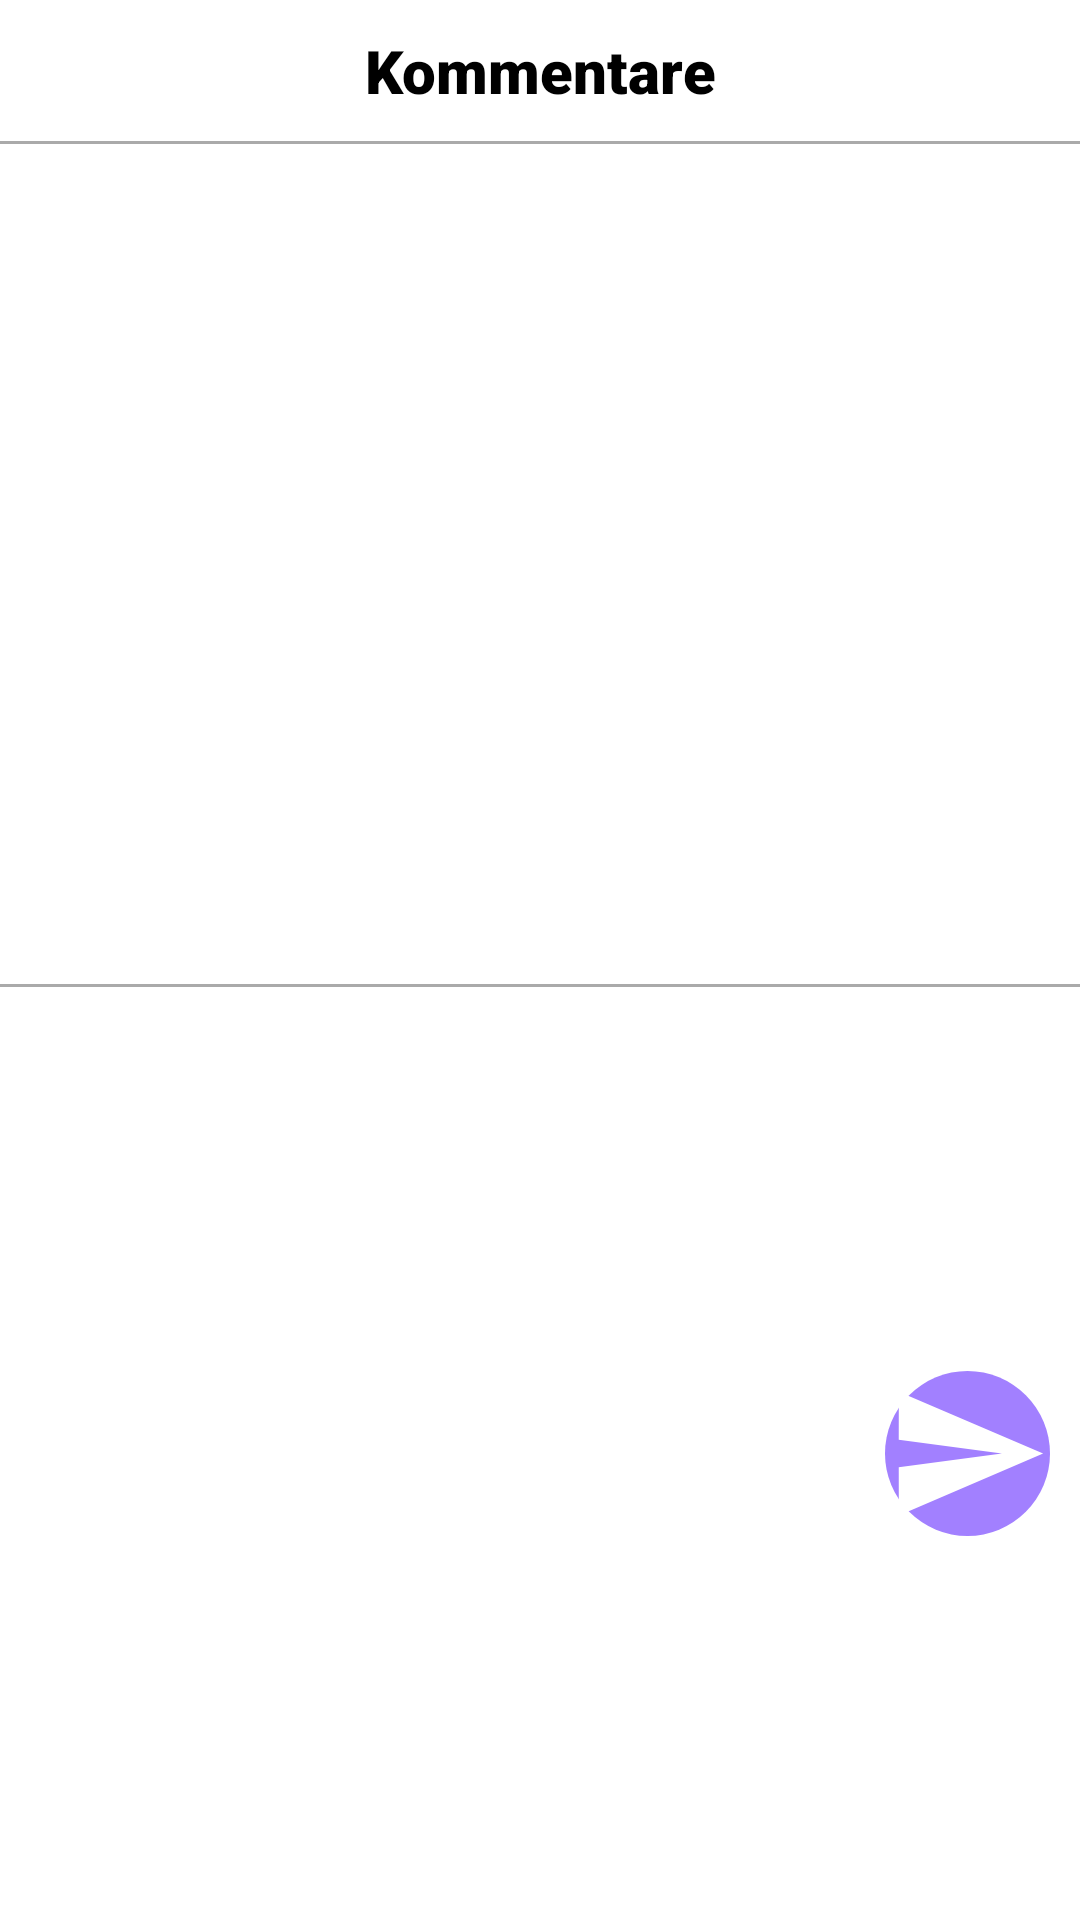

Icons on this 1080px×1920px Android screen, each with its box as (x1, y1, x2, y2):
send: (885, 1371, 1050, 1536)
